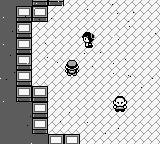main: (65, 60, 79, 76)
no-caminable: (0, 0, 49, 143), (17, 0, 64, 134), (48, 135, 79, 144)
npc: (112, 96, 128, 112), (82, 32, 94, 48)
